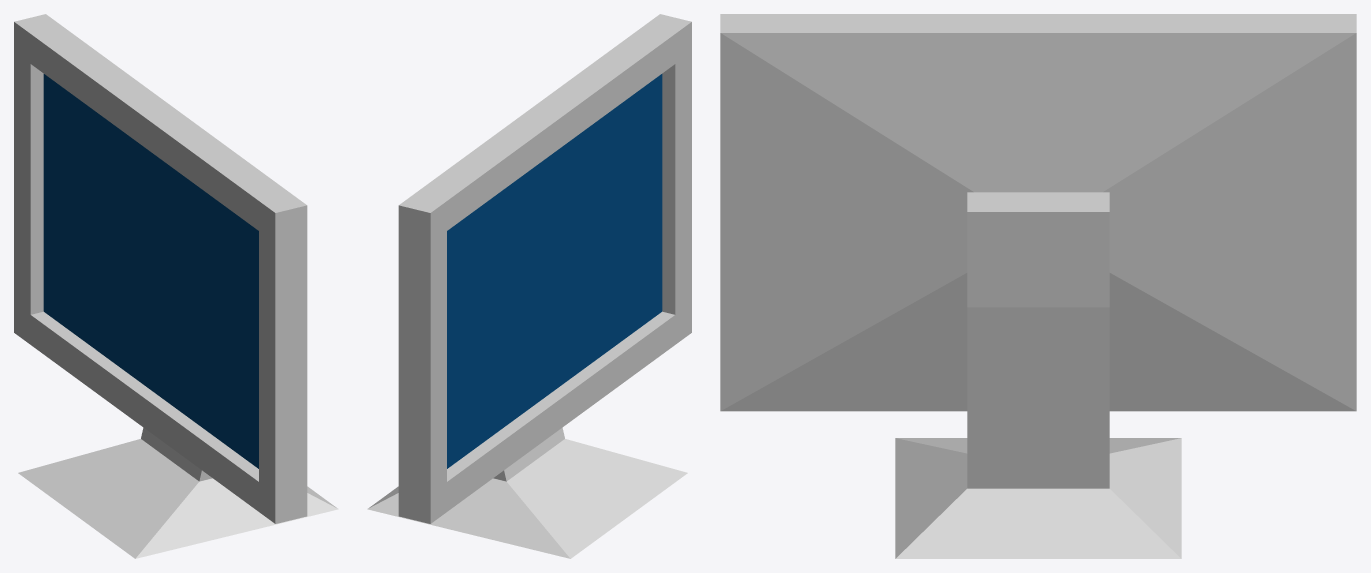
File: pc_monitor_01.fbx
3 renders of one model, left to right at view 1: azimuth 30°, elevation 25°; view 2: azimuth 150°, elevation 25°; view 3: azimuth 270°, elevation 25°, orthographic. The views are drawn at different scales.
Parts seen in each view (by area): view 1: Cube.006; view 2: Cube.006; view 3: Cube.006.
Boxes of the visible parts, box(x1,y1,x2,y2) form: Cube.006: box(14, 14, 338, 558); Cube.006: box(367, 14, 691, 558); Cube.006: box(720, 14, 1356, 558).
Bounding box in the file's own units: 14.08 × 25.24 × 31.32.
